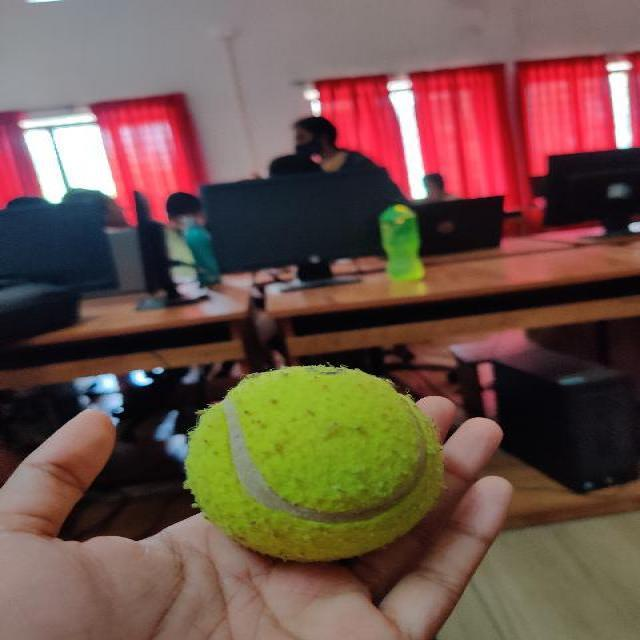tennis-ball: (185, 366, 443, 563)
